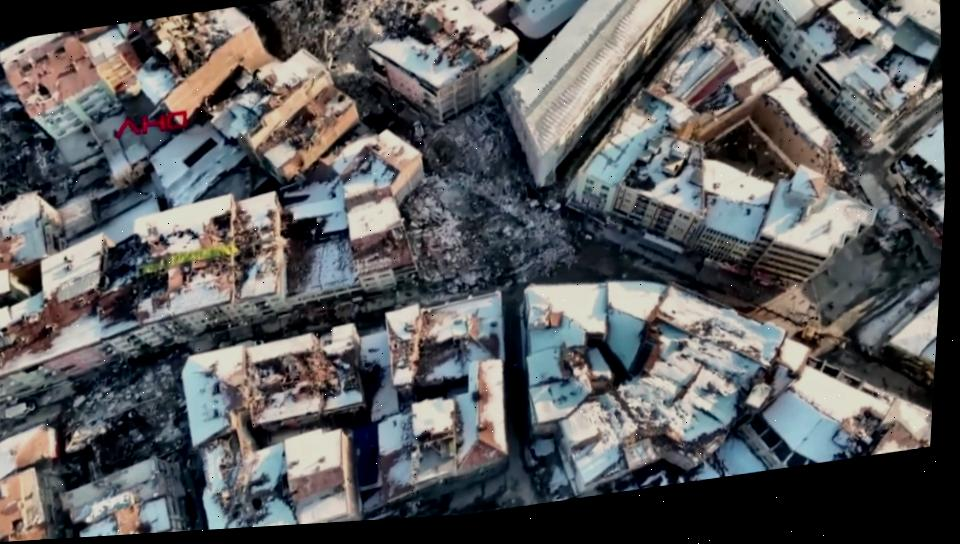kapali: (392, 117, 601, 267), (258, 19, 394, 134), (38, 356, 188, 429)
